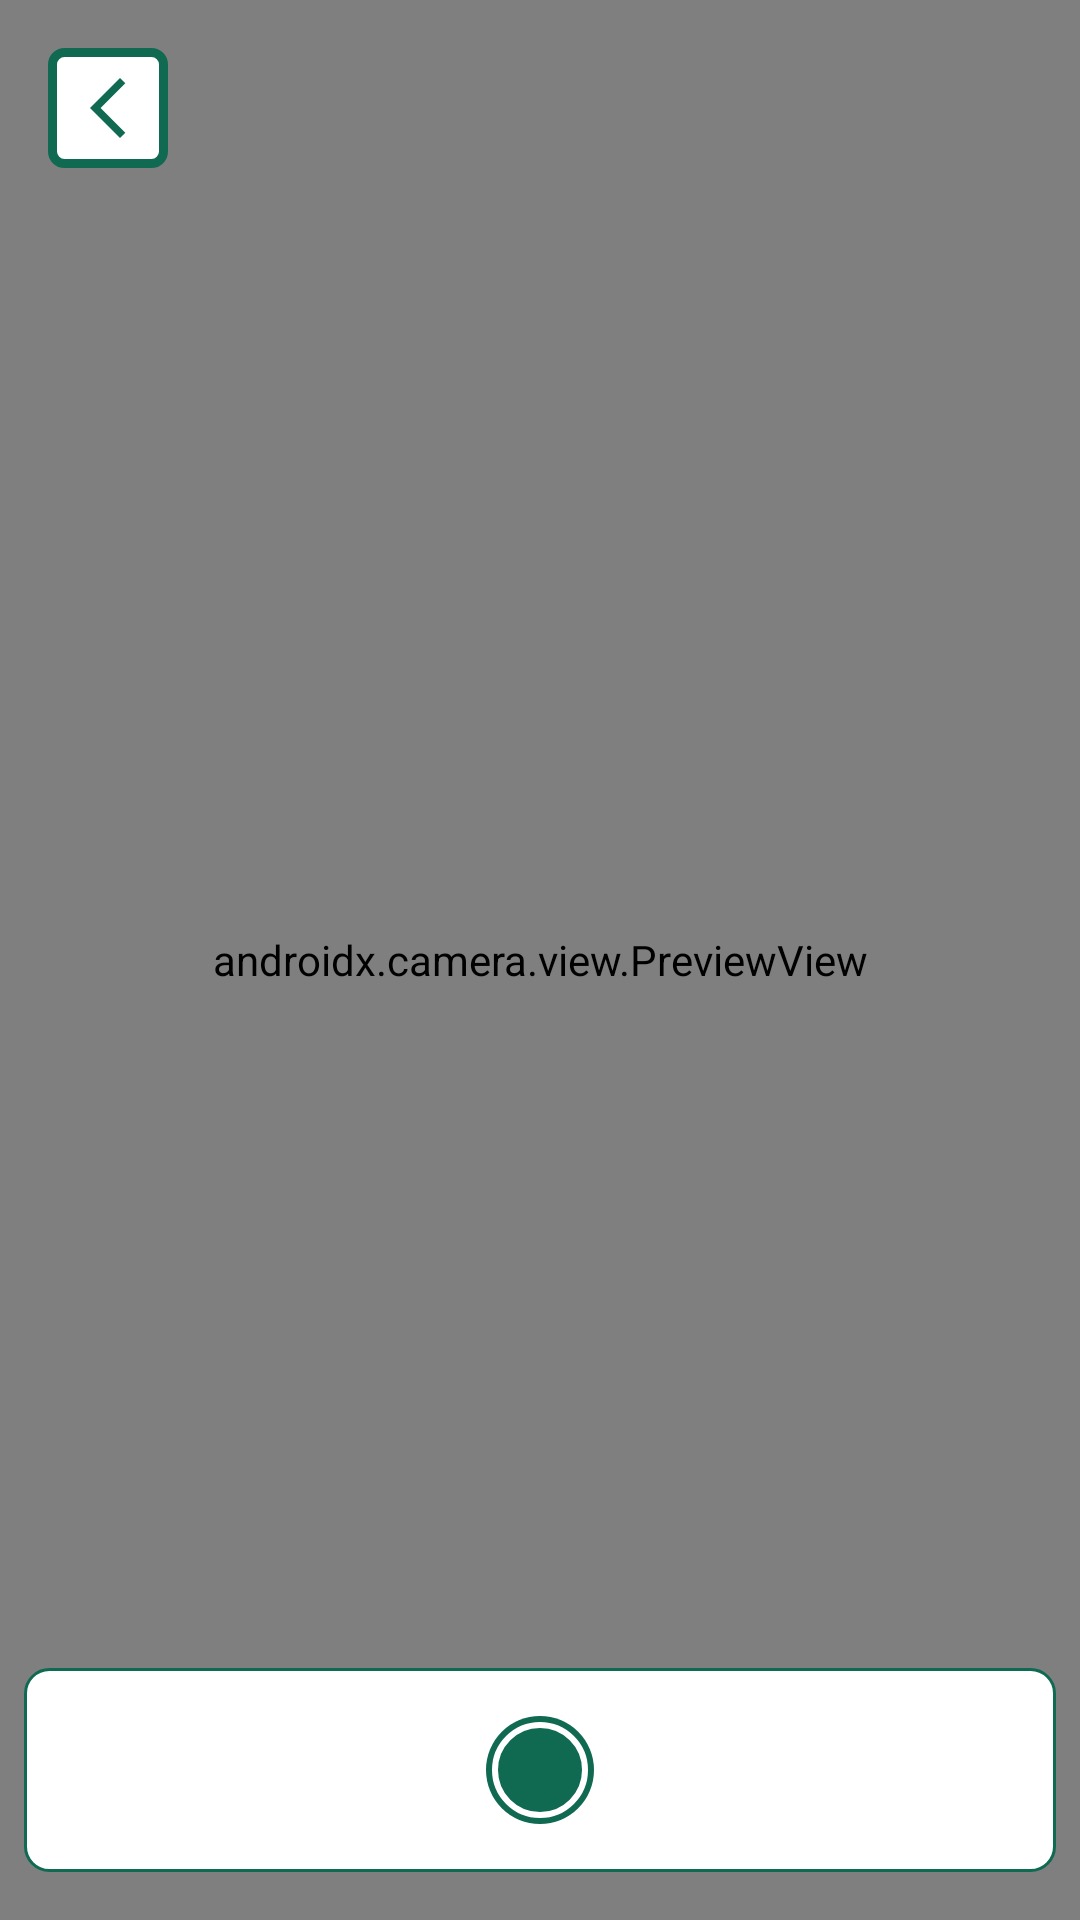

Screen size 1080w x 1920h. Icon name, then its center in pixels as [x,y]:
camera back: [108,108]
